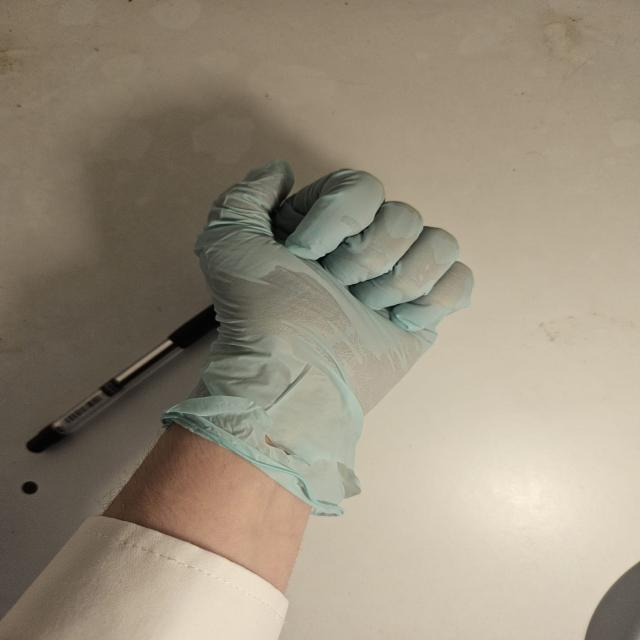gloves_damaged: (152, 158, 474, 520)
